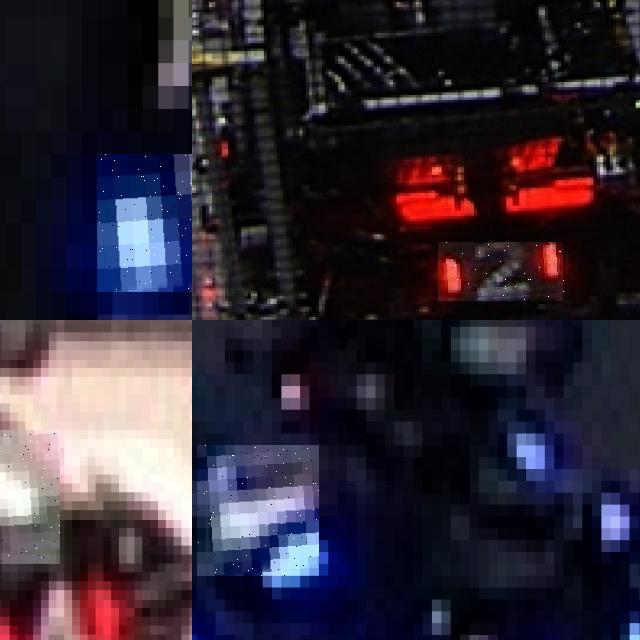B1: (97, 154, 192, 291)
B4: (197, 445, 319, 576)
R2: (438, 242, 564, 301)
R4: (0, 563, 130, 640), (0, 430, 60, 563)
